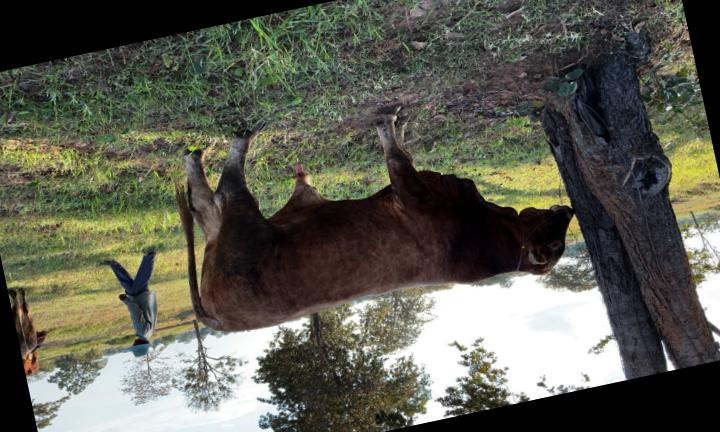Charolais: (177, 109, 574, 332)
